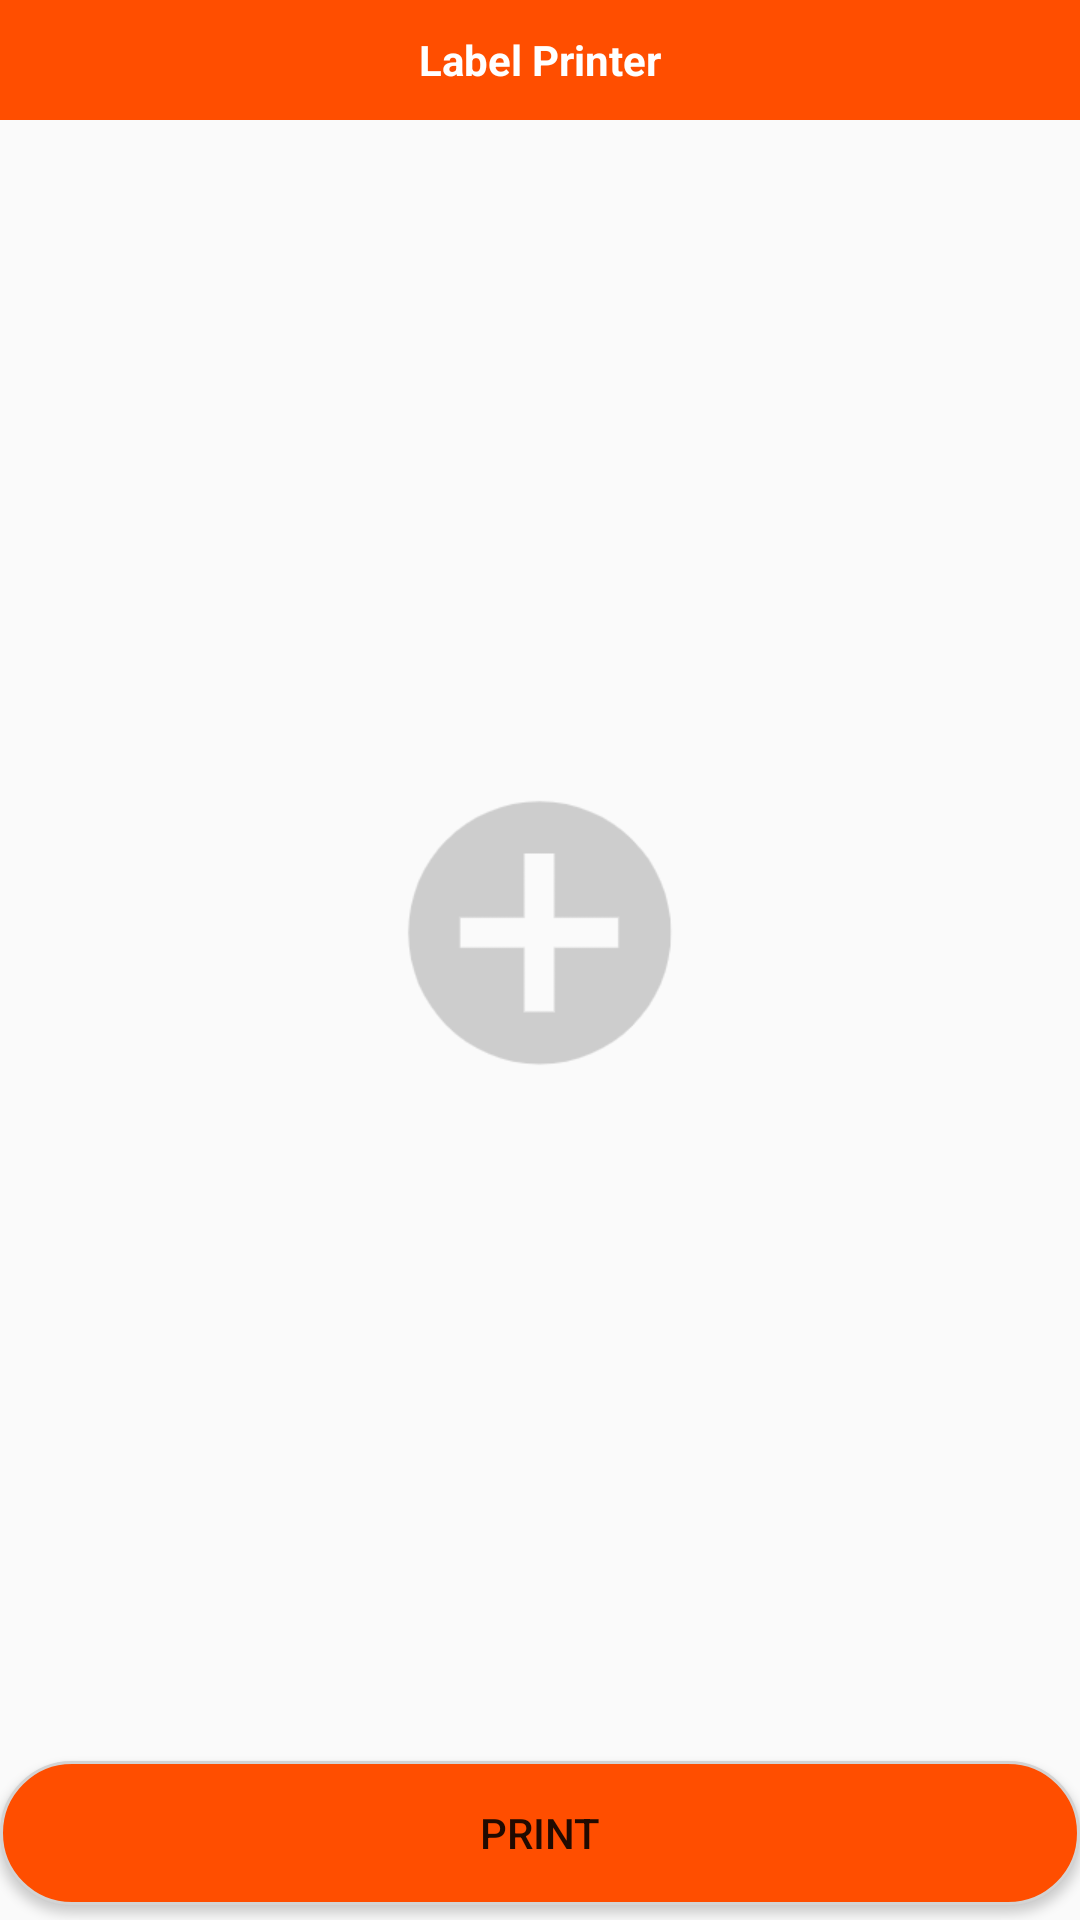

Named icons in this screenshot (1080×1920) and their bounding boxes, (x1, y1, x2, y2):
photo add: (408, 801, 671, 1064)
